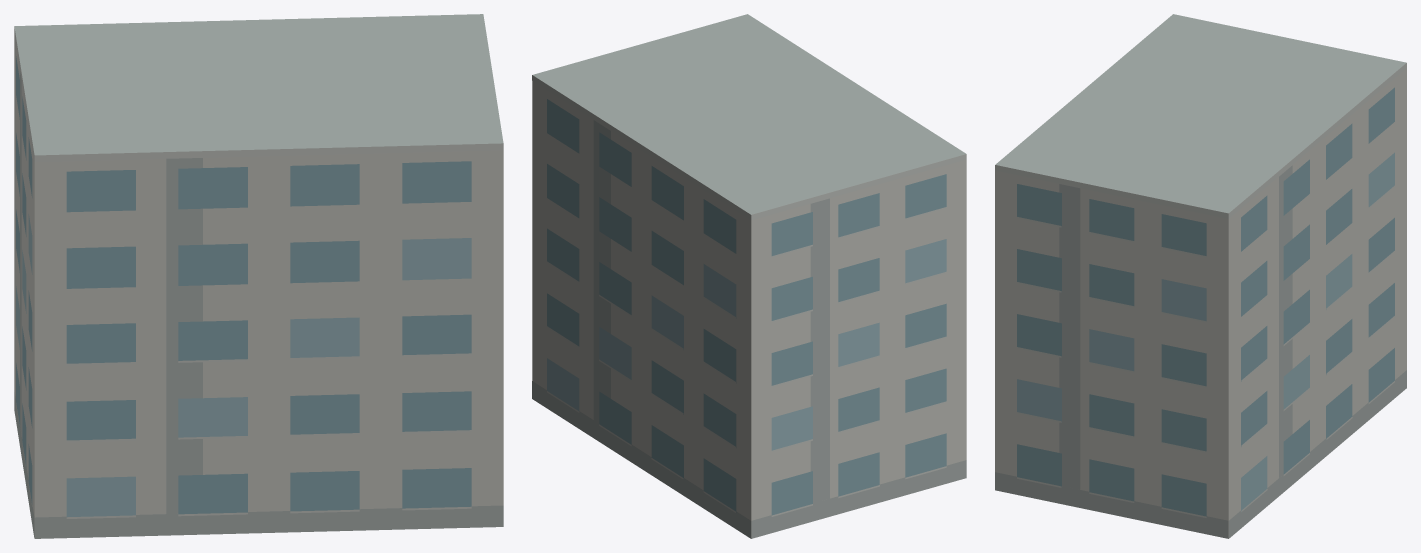
The model's file is survey-upis-32885207.glb.
The picture shows the model from 3 angles, left to right: view 1: azimuth 30°, elevation 25°; view 2: azimuth 150°, elevation 25°; view 3: azimuth 270°, elevation 25°; orthographic projection. The views are drawn at different scales.
Visible parts, largest first — view 1: survey-upis-32885207.tmp; view 2: survey-upis-32885207.tmp; view 3: survey-upis-32885207.tmp.
Part boxes in pixels (box(x1,y1,x2,y2)): survey-upis-32885207.tmp: box(14, 14, 503, 538); survey-upis-32885207.tmp: box(532, 14, 966, 538); survey-upis-32885207.tmp: box(995, 14, 1406, 538).
Size of the model in its own units: 18.14 by 13.8 by 15.83.
